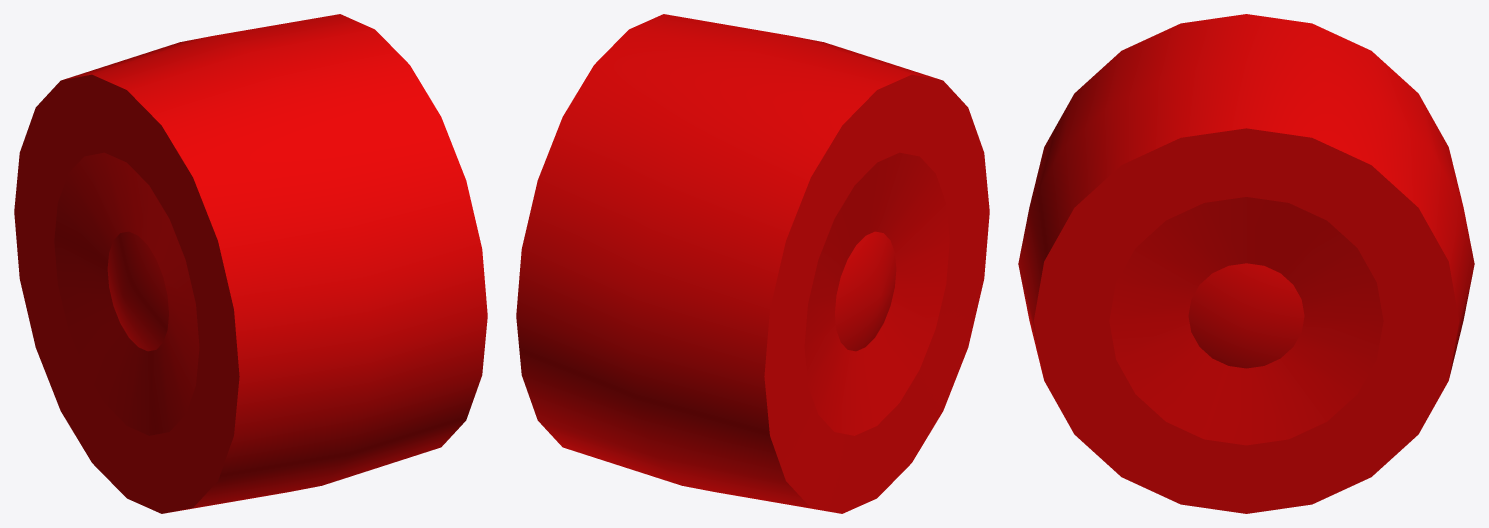
Rendered from Wheel.fbx.
3 renders of one model, left to right at view 1: azimuth 30°, elevation 25°; view 2: azimuth 150°, elevation 25°; view 3: azimuth 270°, elevation 25°, orthographic. The views are drawn at different scales.
Parts seen in each view (by area): view 1: pCylinder3; view 2: pCylinder3; view 3: pCylinder3.
Boxes of the visible parts, box(x1,y1,x2,y2) form: pCylinder3: box(14, 14, 487, 513); pCylinder3: box(516, 14, 989, 513); pCylinder3: box(1018, 14, 1474, 513).
Bounding box in the file's own units: 1.37 × 2.17 × 2.25.
